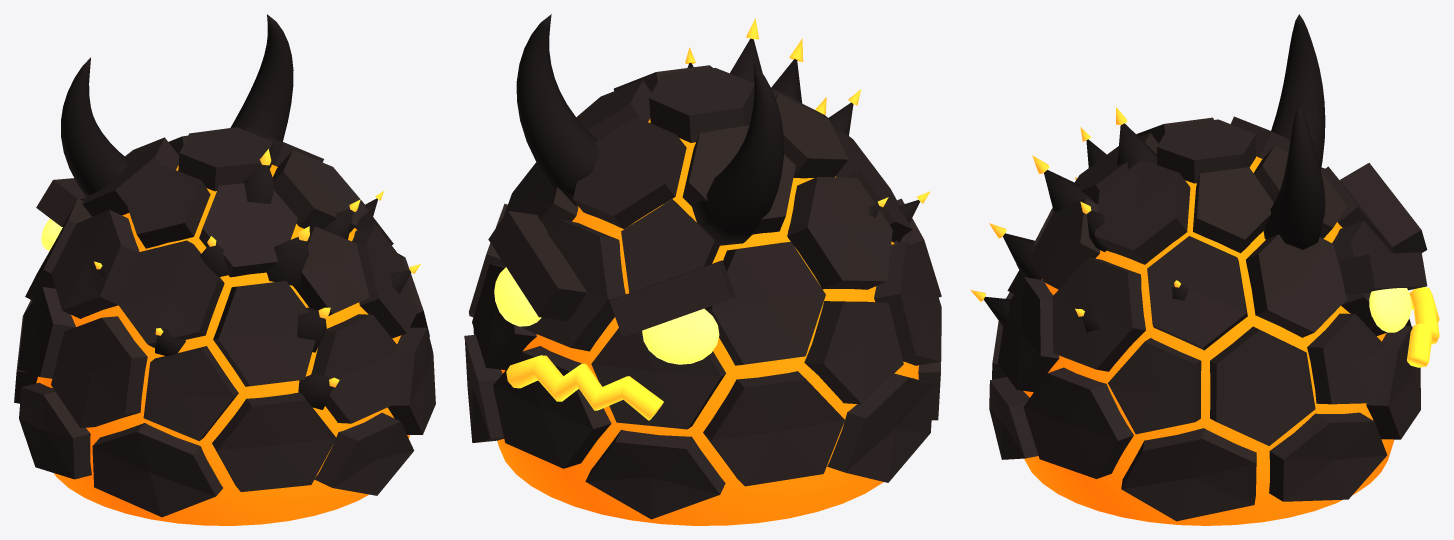
The model's file is Guardian_Lava.glb.
3 views of the same model, side by side, from view 1: azimuth 30°, elevation 25°; view 2: azimuth 150°, elevation 25°; view 3: azimuth 270°, elevation 25° (orthographic). The views are drawn at different scales.
Parts seen in each view (by area): view 1: Body, Core, Horns, Spikes, Lids, SpikeTips; view 2: Body, Core, Horns, Lids, Eyes, Mouth, Spikes, SpikeTips; view 3: Body, Core, Horns, Lids, Spikes, Mouth, Eyes, SpikeTips.
Boxes of the visible parts, bbox=[...] form: Body: bbox=[14, 127, 435, 517]; Core: bbox=[36, 164, 409, 525]; Horns: bbox=[61, 14, 293, 195]; Spikes: bbox=[99, 164, 411, 409]; Lids: bbox=[36, 178, 85, 226]; SpikeTips: bbox=[94, 149, 420, 387]; Body: bbox=[464, 65, 941, 519]; Core: bbox=[497, 118, 918, 525]; Horns: bbox=[516, 14, 783, 245]; Lids: bbox=[488, 210, 735, 337]; Eyes: bbox=[494, 267, 719, 364]; Mouth: bbox=[506, 355, 663, 420]; Spikes: bbox=[687, 38, 920, 242]; SpikeTips: bbox=[685, 18, 930, 207]; Body: bbox=[989, 116, 1420, 521]; Core: bbox=[1023, 156, 1394, 525]; Horns: bbox=[1263, 14, 1325, 249]; Lids: bbox=[1340, 163, 1427, 294]; Spikes: bbox=[983, 123, 1188, 331]; Mouth: bbox=[1407, 287, 1439, 367]; Eyes: bbox=[1369, 288, 1411, 332]; SpikeTips: bbox=[970, 107, 1180, 316].
Bounding box in the file's own units: 10.81 × 10.95 × 11.93.
